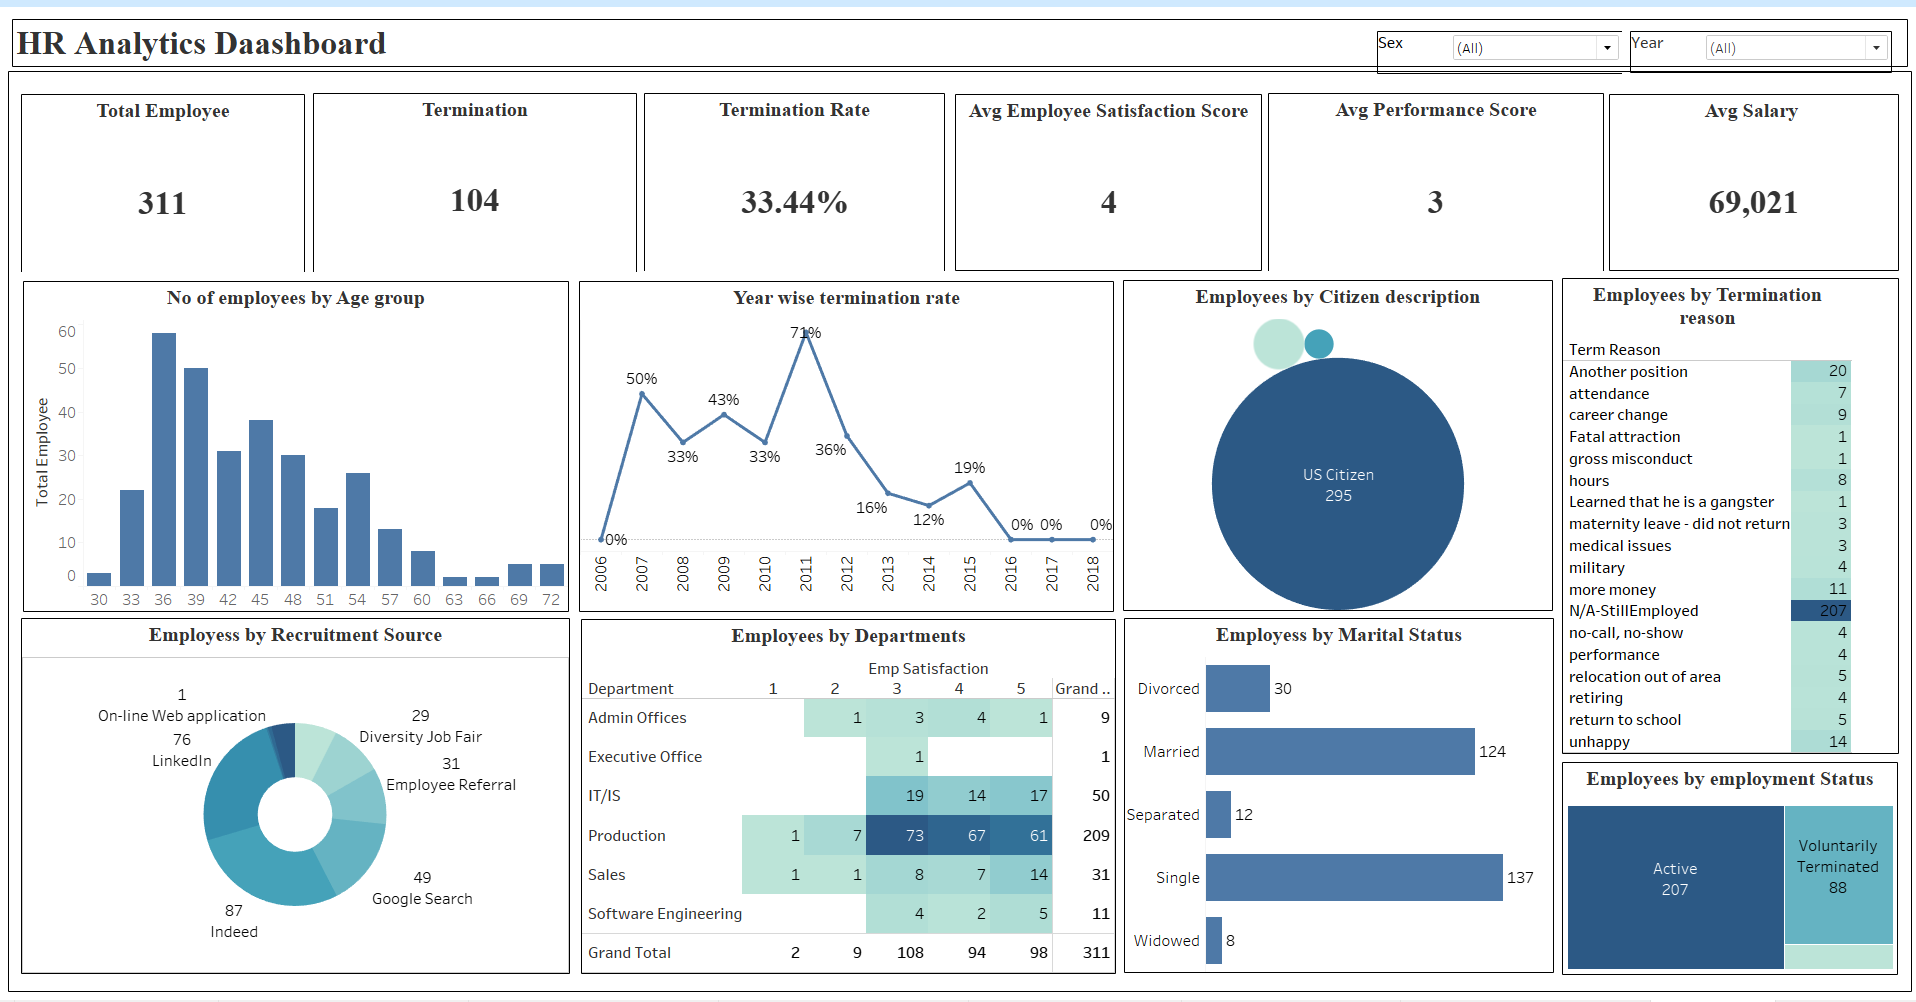

The dashboard page shown, as its layout file describes it:
{"tool":"tableau","page":{"name":"Dashboard 1","canvas":[1000,1000],"units":"permille","ordinal":0},"visuals":[{"type":"title","box":[4.8,10,990.3,69.9]},{"type":"filter","title":"Employess by Marital Status","param":"[federated.1wbog890ijnl2017xpes21x7h2y5].[none:Sex:nk]","box":[717,23.7,127.9,43.7]},{"type":"filter","title":"Employess by Recruitment Source","param":"[federated.1wbog890ijnl2017xpes21x7h2y5].[yr:DateofHire:ok]","box":[849.1,23.7,136.4,42.5]},{"type":"worksheet","title":"Termination","mark":"Automatic","box":[163,86.1,169,181]},{"type":"worksheet","title":"Termination Rate","mark":"Automatic","box":[335.6,86.1,156.9,179.8]},{"type":"worksheet","title":"Avg Performance Score","mark":"Automatic","box":[660.2,86.1,175,179.8]},{"type":"worksheet","title":"Total Employee","mark":"Automatic","box":[10.9,87.4,147.9,179.8]},{"type":"worksheet","title":"Avg Employee Satisfaction Score","mark":"Automatic","box":[497.3,87.4,159.9,178.5]},{"type":"worksheet","title":"Avg Salary ","mark":"Automatic","box":[838.3,87.4,150.9,178.5]},{"type":"worksheet","title":"Employees by Termination reason","mark":"Square","rows":["TermReason"],"box":[813.5,273.4,175.6,479.4]},{"type":"worksheet","title":"Employees by Citizen description","mark":"Circle","box":[584.8,274.7,223.9,333.3]},{"type":"worksheet","title":"No of employees by Age group","mark":"Automatic","rows":["Calculation_1304355046570582020"],"cols":["Age (bin)"],"box":[12.1,275.9,284.2,333.3]},{"type":"worksheet","title":"Year wise termination rate","mark":"Automatic","rows":["Calculation_1304355046570840070"],"cols":["DateofHire"],"box":[301.8,275.9,278.8,333.3]},{"type":"worksheet","title":"Employess by Recruitment Source","mark":"Pie","rows":["Calculation_1304355046589640714","Calculation_1304355046589640714"],"box":[10.9,615.5,286.1,358.3]},{"type":"worksheet","title":"Employess by Marital Status","mark":"Automatic","rows":["MaritalDesc"],"cols":["Calculation_1304355046570582020"],"box":[585.4,615.5,223.9,357.1]},{"type":"worksheet","title":"Employees by Departments","mark":"Square","rows":["Department"],"cols":["EmpSatisfaction"],"box":[302.4,616.7,278.8,357.1]},{"type":"worksheet","title":"Employees by employment Status","mark":"Automatic","box":[813.5,760.3,175,214.7]}]}

Visuals, with their boxes on the dashboard's canvas, which has no fixed pixel size, in thousandths of its width and height (x1, y1, x2, y2). These are canvas units, not pixel positions in the 1916x1002 screenshot, which may show the page scaled, cropped or inside an application window:
title: (left=5, top=10, right=995, bottom=80)
"Employess by Marital Status" filter: (left=717, top=24, right=845, bottom=67)
"Employess by Recruitment Source" filter: (left=849, top=24, right=986, bottom=66)
"Termination" worksheet: (left=163, top=86, right=332, bottom=267)
"Termination Rate" worksheet: (left=336, top=86, right=492, bottom=266)
"Avg Performance Score" worksheet: (left=660, top=86, right=835, bottom=266)
"Total Employee" worksheet: (left=11, top=87, right=159, bottom=267)
"Avg Employee Satisfaction Score" worksheet: (left=497, top=87, right=657, bottom=266)
"Avg Salary " worksheet: (left=838, top=87, right=989, bottom=266)
"Employees by Termination reason" worksheet (Square marks): (left=814, top=273, right=989, bottom=753)
"Employees by Citizen description" worksheet (Circle marks): (left=585, top=275, right=809, bottom=608)
"No of employees by Age group" worksheet: (left=12, top=276, right=296, bottom=609)
"Year wise termination rate" worksheet: (left=302, top=276, right=581, bottom=609)
"Employess by Recruitment Source" worksheet (Pie marks): (left=11, top=616, right=297, bottom=974)
"Employess by Marital Status" worksheet: (left=585, top=616, right=809, bottom=973)
"Employees by Departments" worksheet (Square marks): (left=302, top=617, right=581, bottom=974)
"Employees by employment Status" worksheet: (left=814, top=760, right=988, bottom=975)
